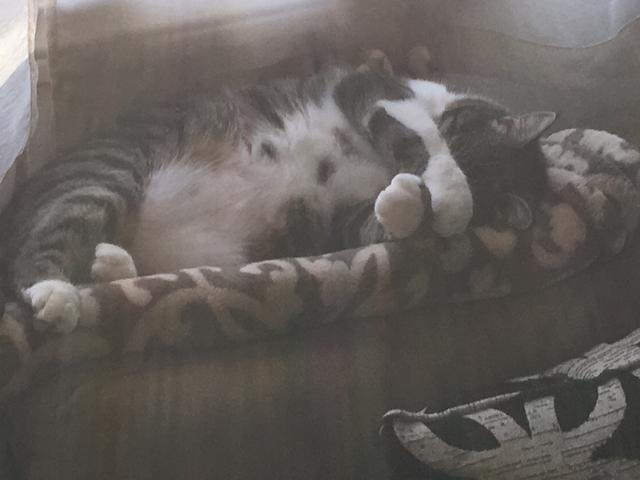playdoh: (10, 72, 557, 330)
